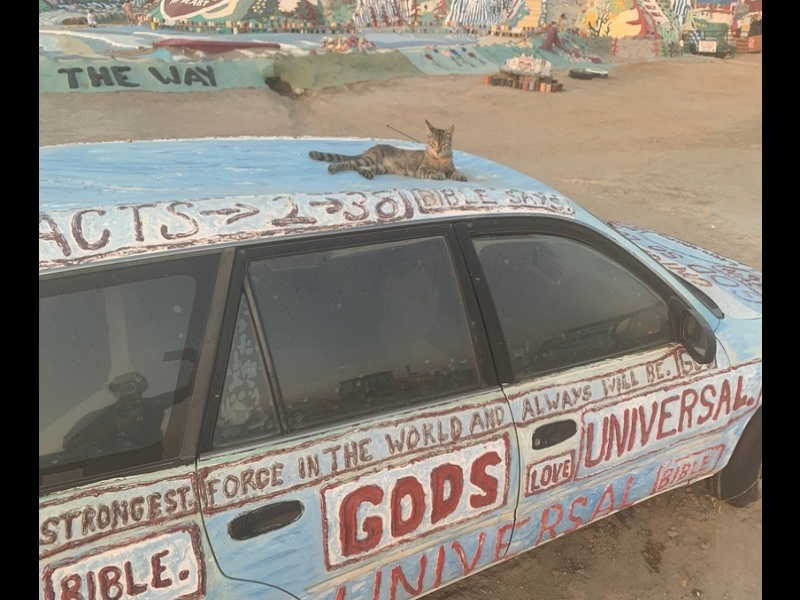cat: (310, 125, 467, 183)
